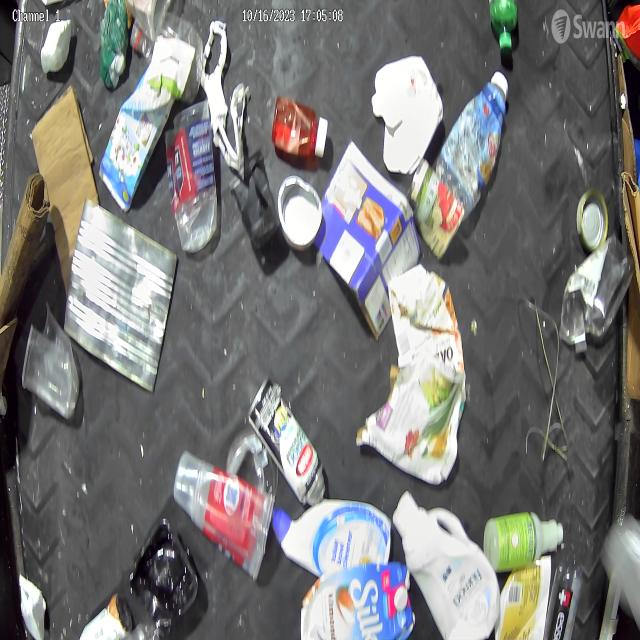can: (63, 198, 179, 392), (577, 185, 608, 252)
milk_jug: (390, 486, 504, 640)
non_white_jug: (313, 138, 422, 330), (294, 552, 419, 640)
